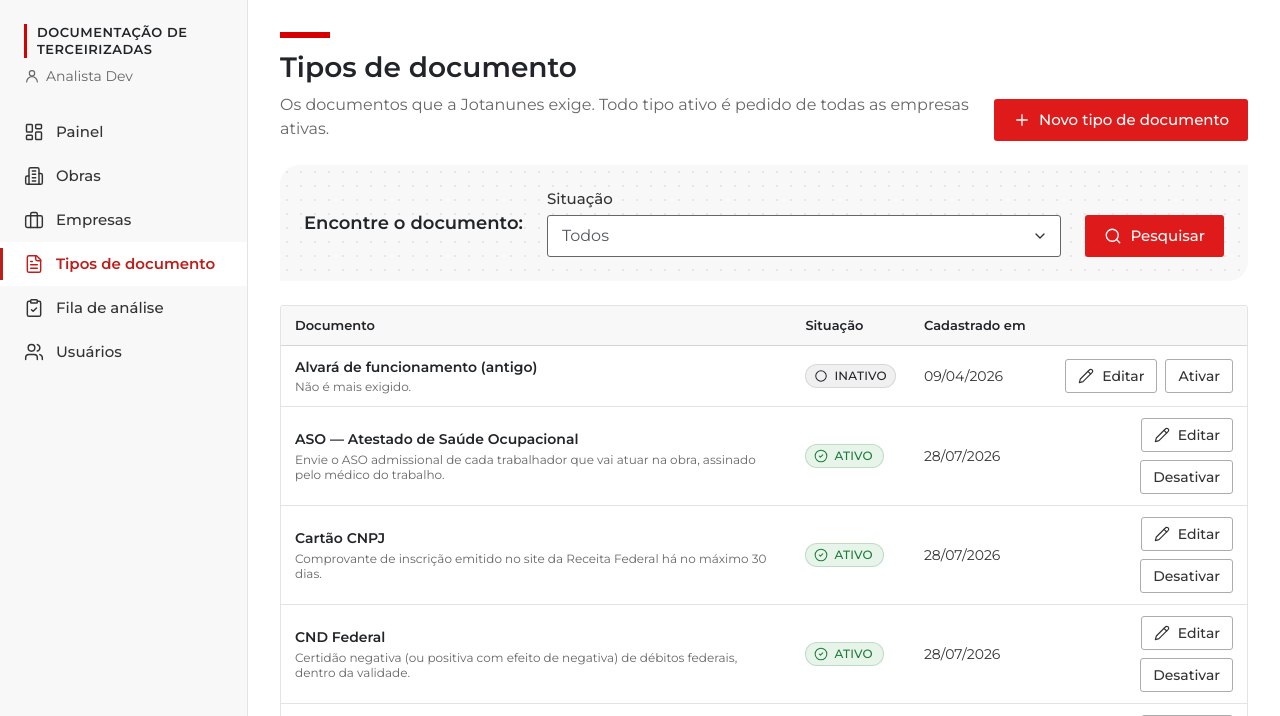
Tipos de documento › nome duplicado mostra a mensagem do contrato
Click the button "Novo tipo de documento": (1121, 120) left=994, top=99, right=1248, bottom=141
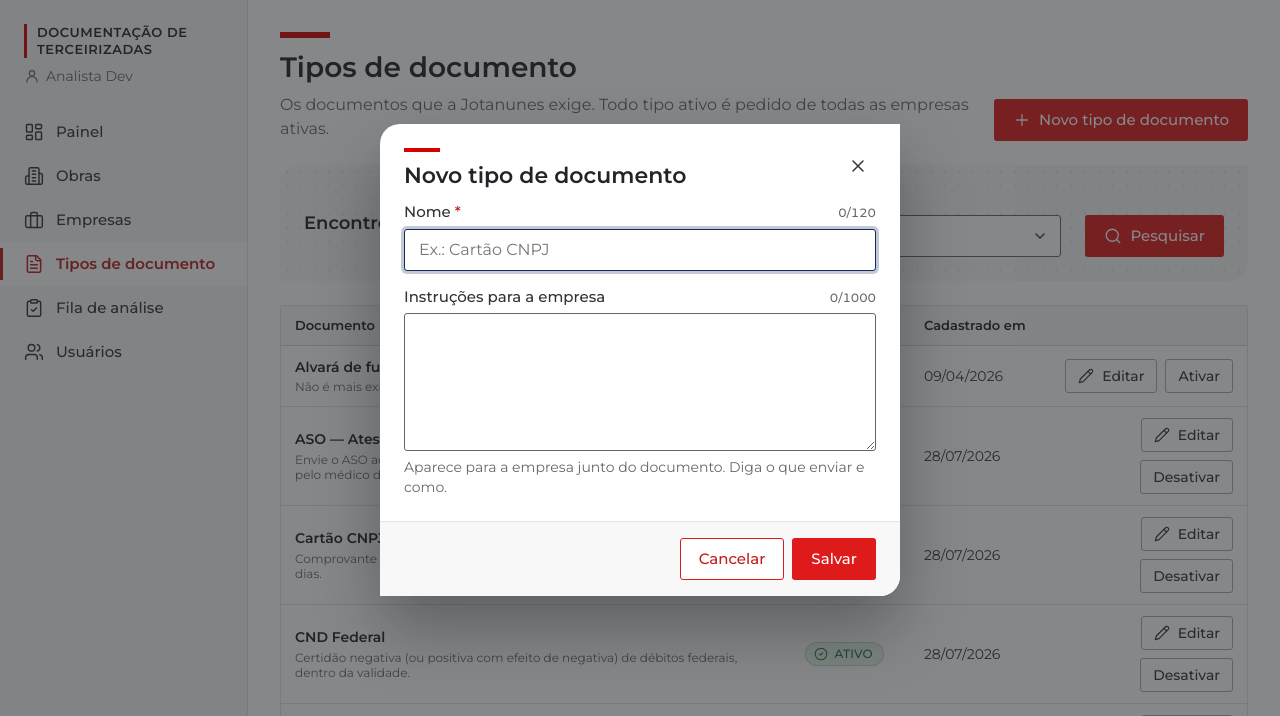
In the field labelled "Nome *": (640, 250) left=404, top=228, right=876, bottom=270, type "cartão cnpj"
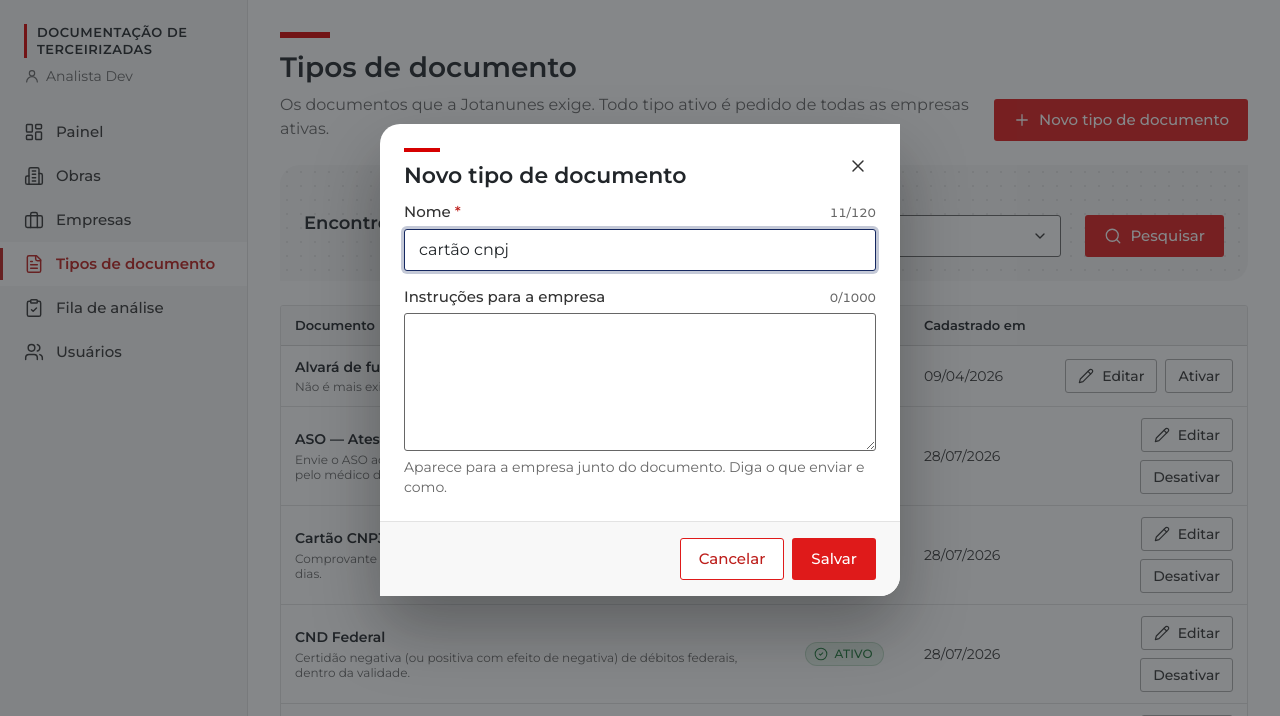
Click the button "Salvar": (834, 559) left=792, top=538, right=876, bottom=580
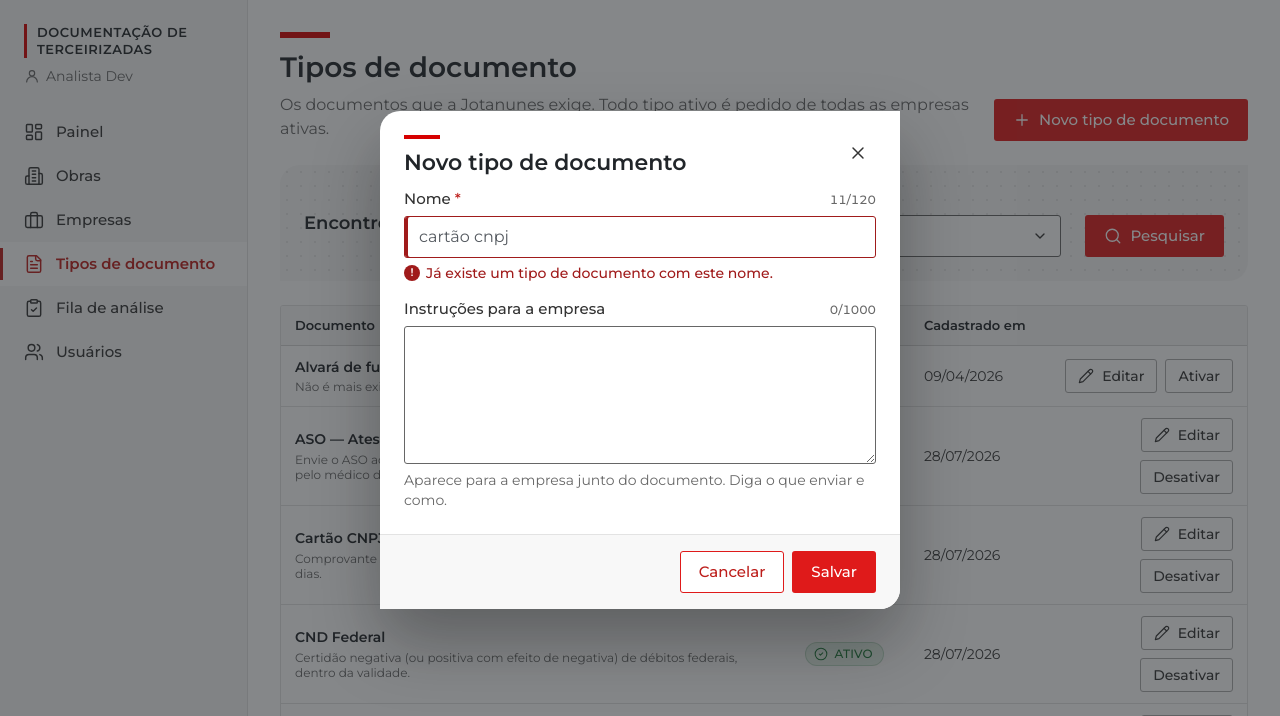
Check: the text "Já existe um tipo de documento com este nome." is shown, box left=426, top=264, right=773, bottom=282
